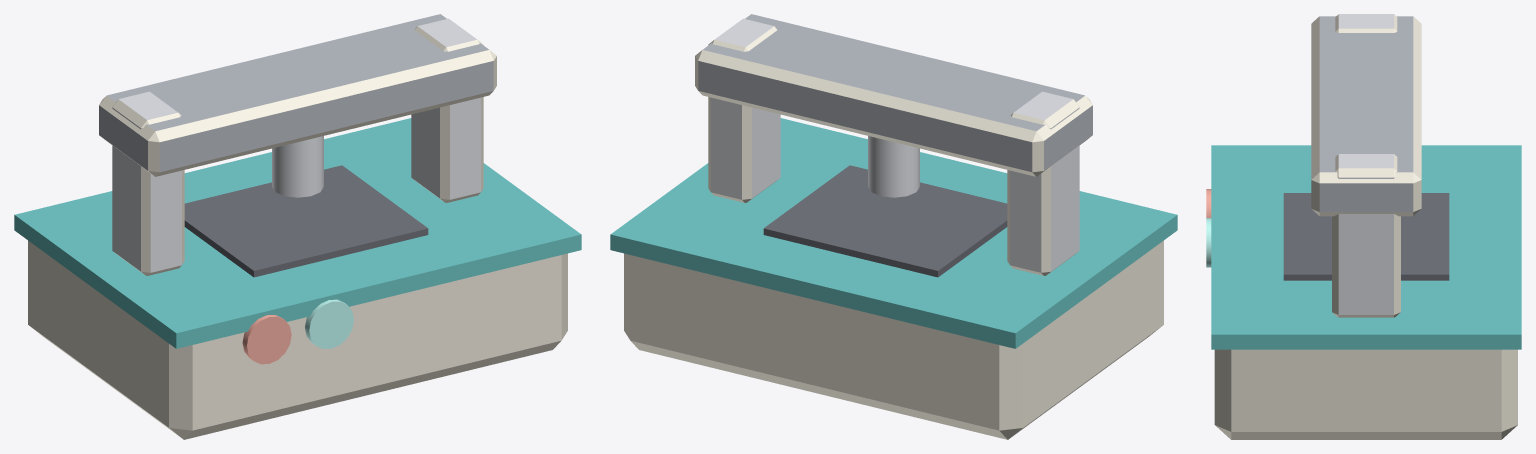
Rendered from ic_constructor.glb.
3 views of the same model, side by side, from view 1: azimuth 30°, elevation 25°; view 2: azimuth 150°, elevation 25°; view 3: azimuth 270°, elevation 25° (orthographic). The views are drawn at different scales.
Visible parts, largest first — view 1: ic_constructor; view 2: ic_constructor; view 3: ic_constructor.
Boxes of the visible parts, <box> form: ic_constructor: <box>14,14,581,439</box>; ic_constructor: <box>610,14,1177,439</box>; ic_constructor: <box>1206,14,1521,439</box>.
Size of the model in its own units: 3.25 by 2.1 by 2.29.
